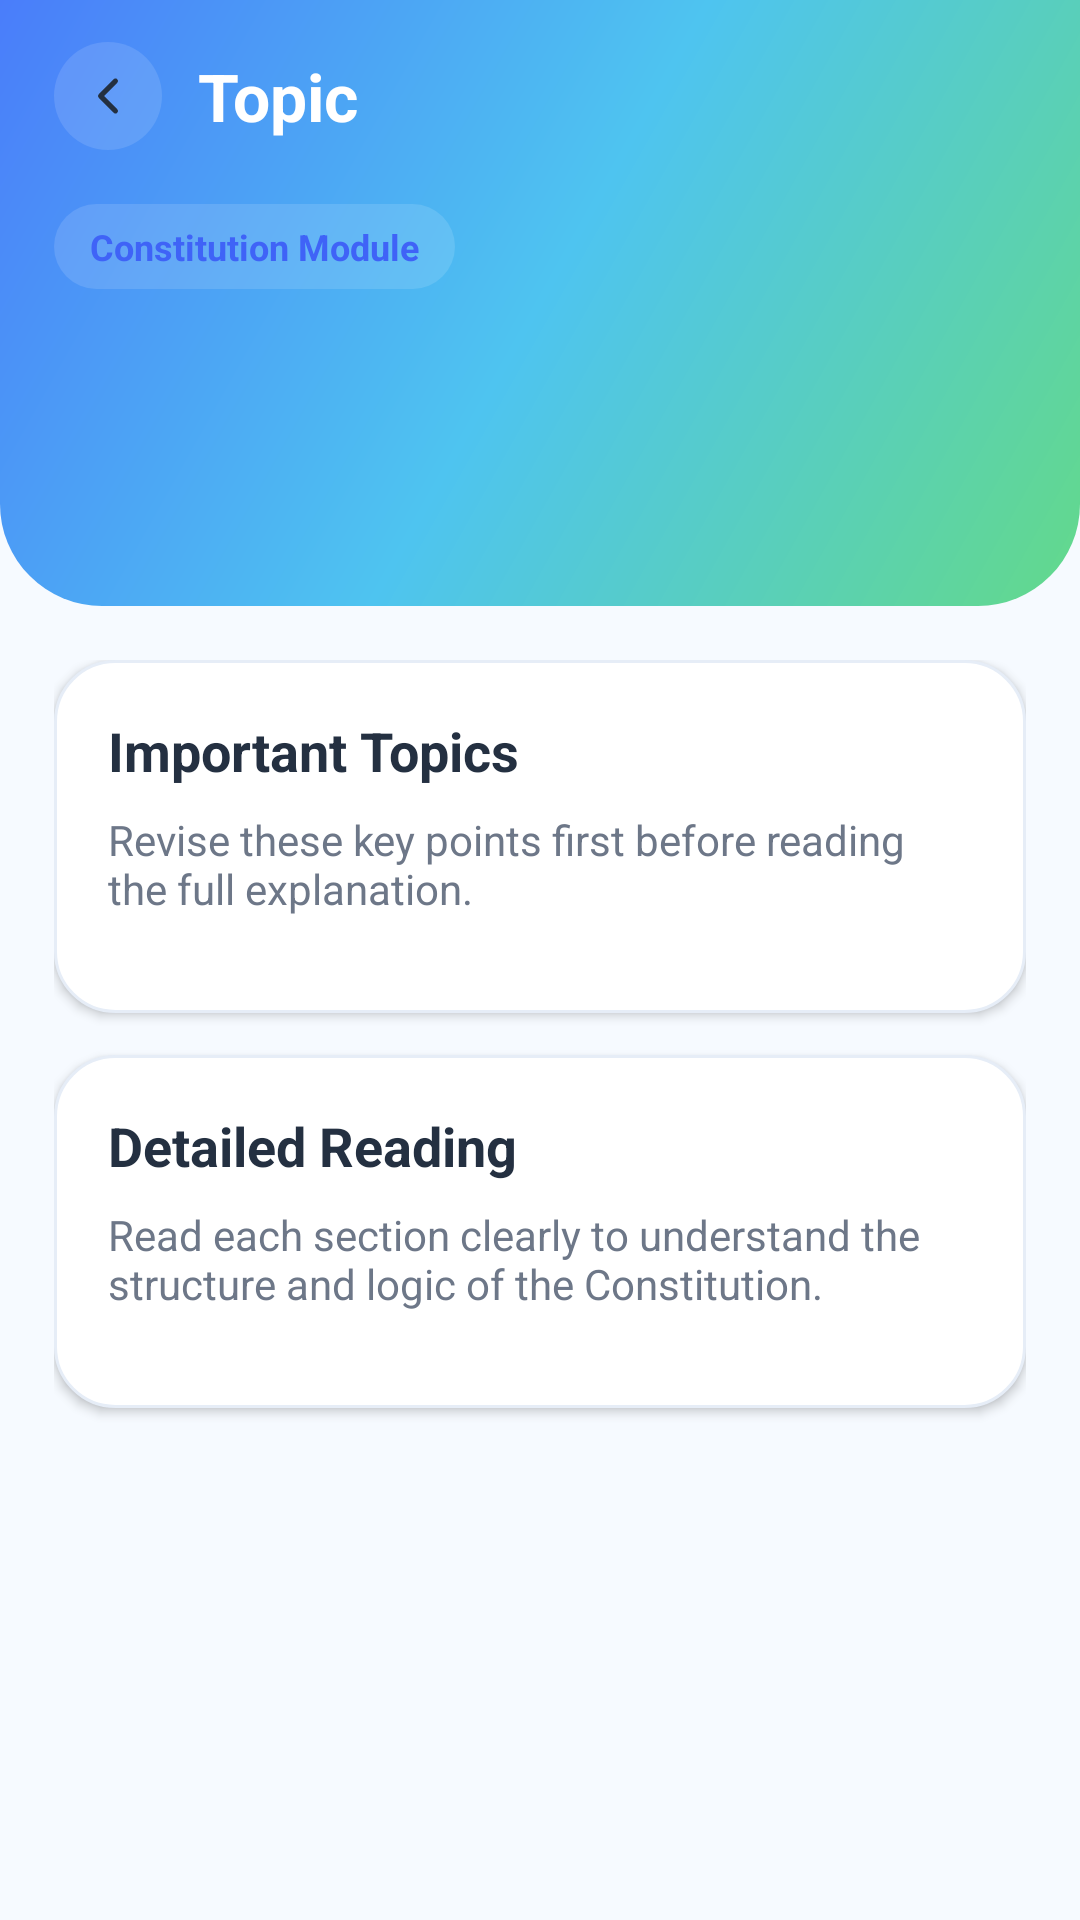

Where to tap for icons on this 1080x1920 app screen, as (x=x, y=y):
back: (x=108, y=96)
